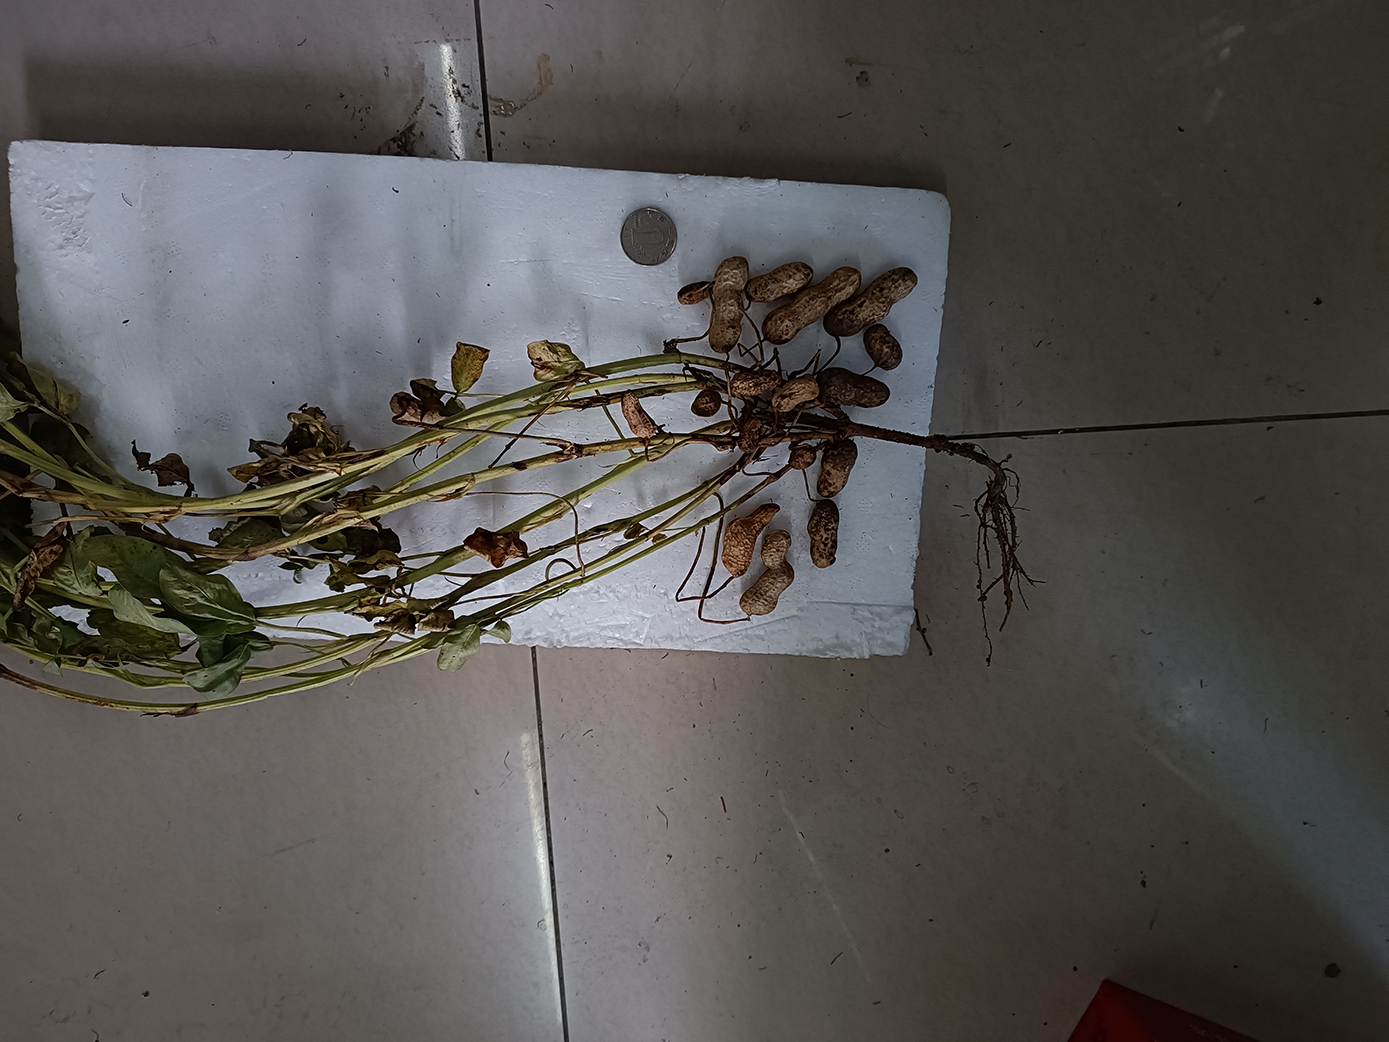h: (761, 266, 860, 343), (824, 266, 919, 337), (740, 530, 795, 617), (722, 503, 777, 578), (710, 257, 746, 352), (745, 263, 814, 303), (620, 389, 664, 447), (807, 499, 841, 570), (726, 370, 783, 398), (773, 380, 819, 412), (678, 280, 714, 305), (790, 443, 817, 471)
l: (819, 369, 891, 408), (864, 324, 903, 373), (691, 390, 721, 416)
